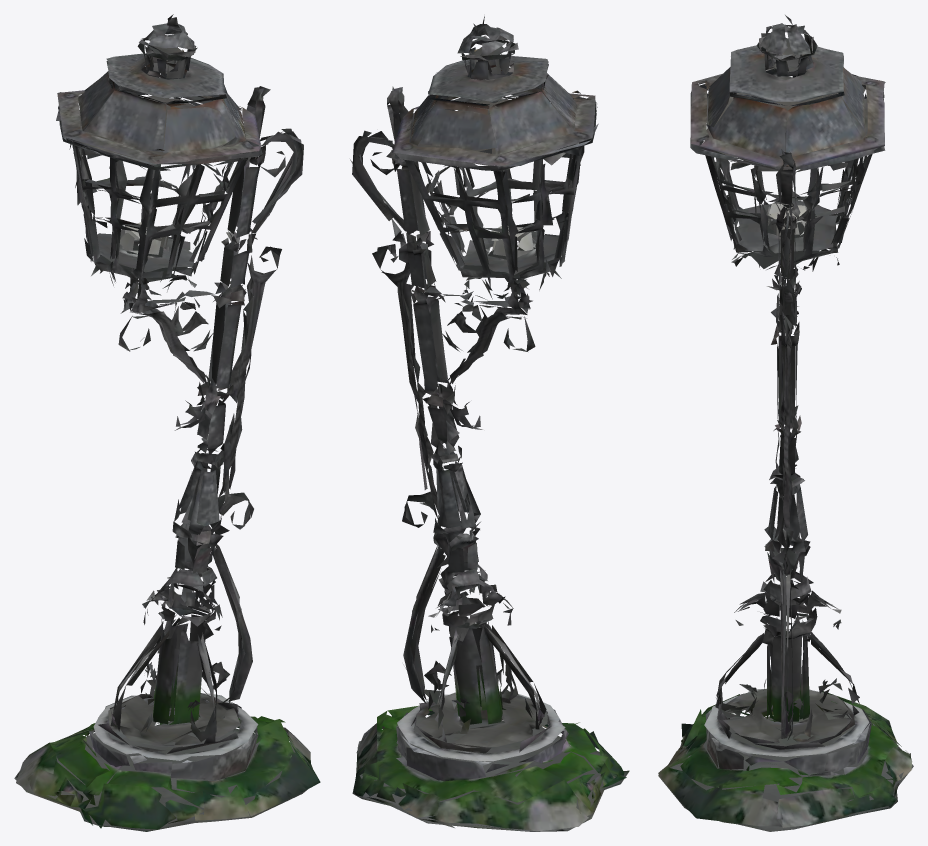
Rendered from oldLamp.glb.
3 renders of one model, left to right at view 1: azimuth 30°, elevation 25°; view 2: azimuth 150°, elevation 25°; view 3: azimuth 270°, elevation 25°, orthographic.
Parts seen in each view (by area): view 1: oldLamp; view 2: oldLamp; view 3: oldLamp.
Part boxes in pixels (<box>): oldLamp: <box>14,14,320,831</box>; oldLamp: <box>350,16,629,831</box>; oldLamp: <box>658,15,913,831</box>.
Size of the model in its own units: 0.3183 by 0.8925 by 0.2734.
1 material, 1 textured.
